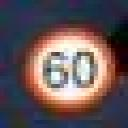speed_limit_60: (20, 18, 123, 118)
